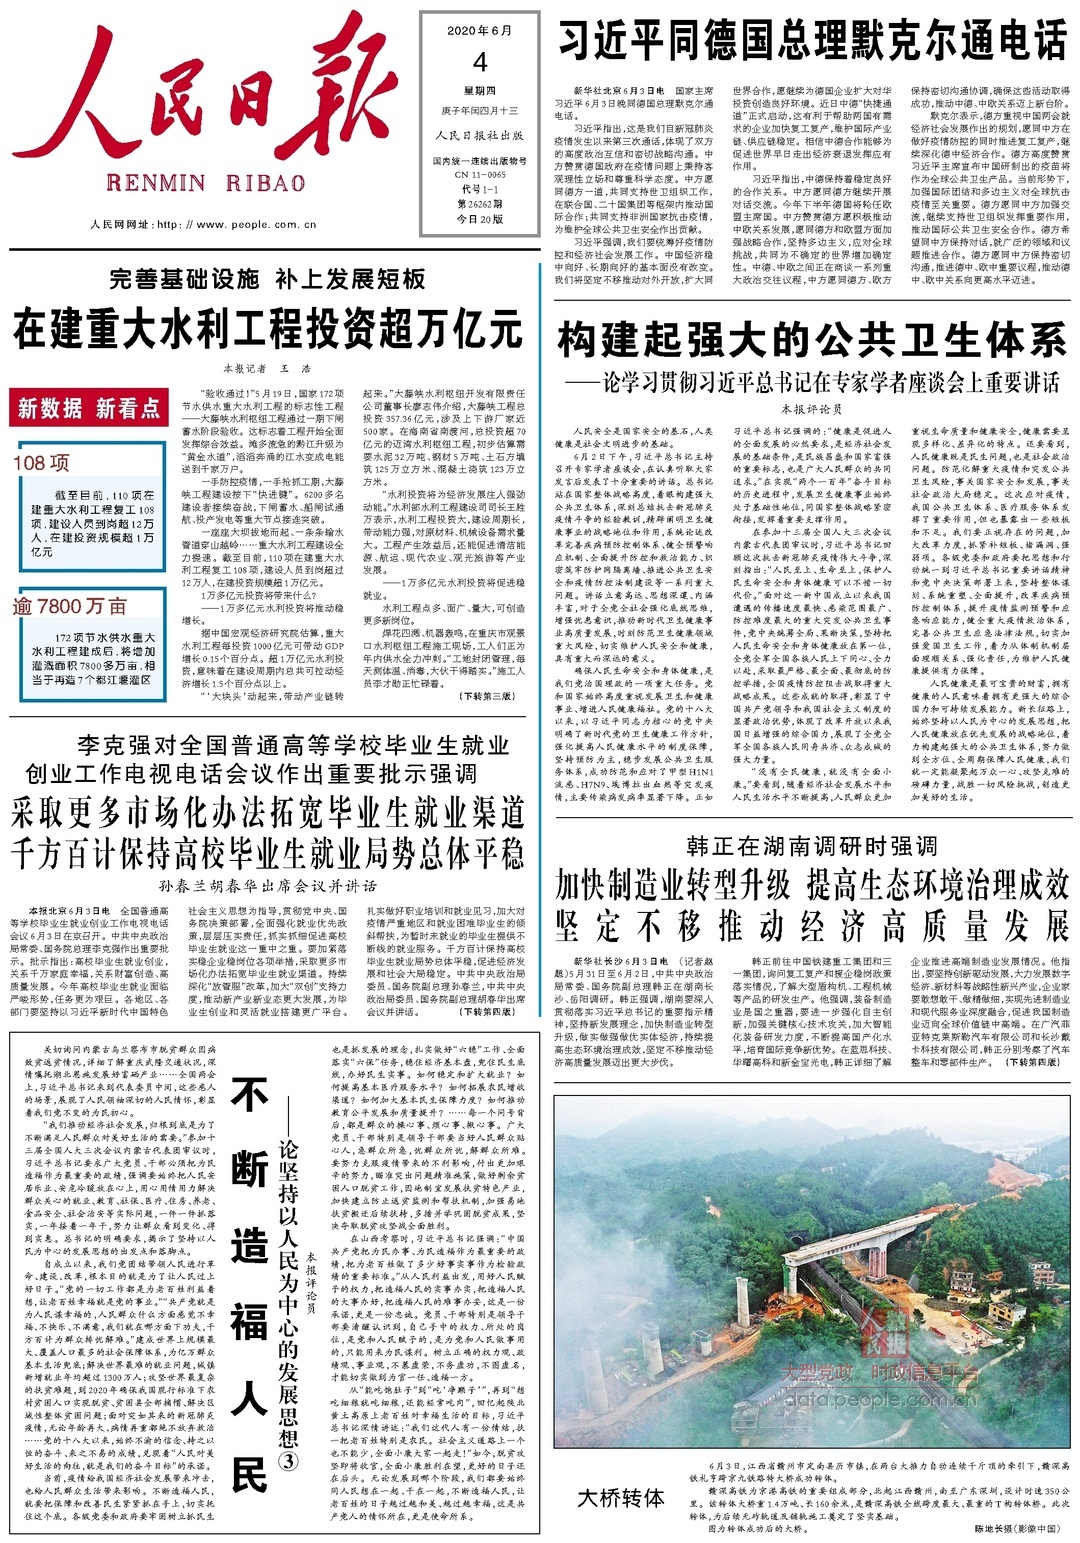pic: (550, 1089, 1076, 1454)
